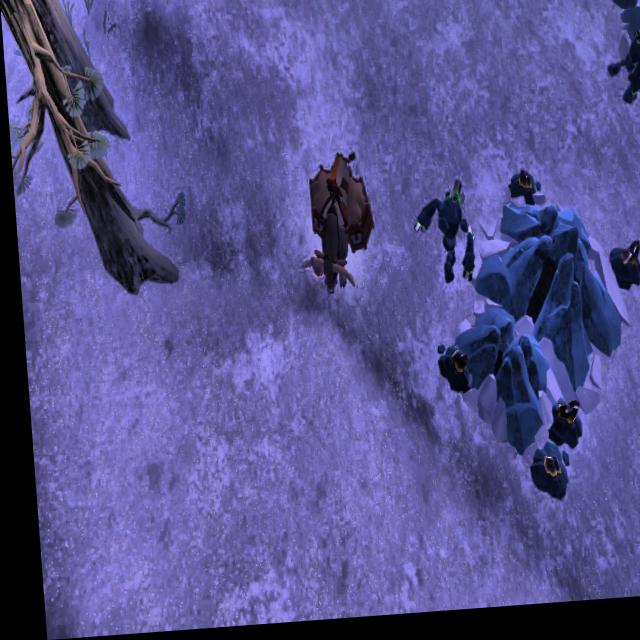ore_t3: (616, 0, 638, 15)
